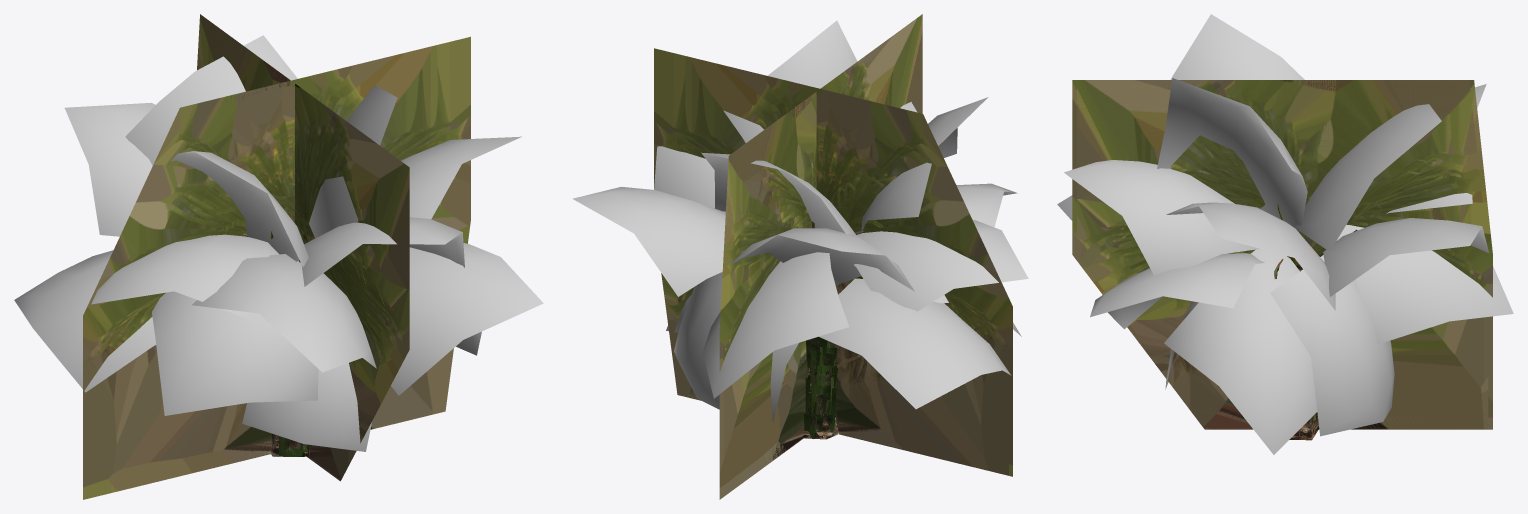
Rendered from Fan3.fbx.
The picture shows the model from 3 angles, left to right: view 1: azimuth 30°, elevation 25°; view 2: azimuth 150°, elevation 25°; view 3: azimuth 270°, elevation 25°; orthographic projection. The views are drawn at different scales.
Visible parts, largest first — view 1: LOD0, Billboard; view 2: Billboard, LOD0; view 3: LOD0, Billboard.
Boxes of the visible parts, x1,y1,x2,y2 form: LOD0: (14, 35, 543, 456); Billboard: (83, 14, 470, 499); Billboard: (654, 14, 1012, 499); LOD0: (572, 20, 1028, 439); LOD0: (1057, 14, 1513, 454); Billboard: (1072, 80, 1492, 429).
Size of what is drawn, in the model's own units: 232 by 209 by 233.
